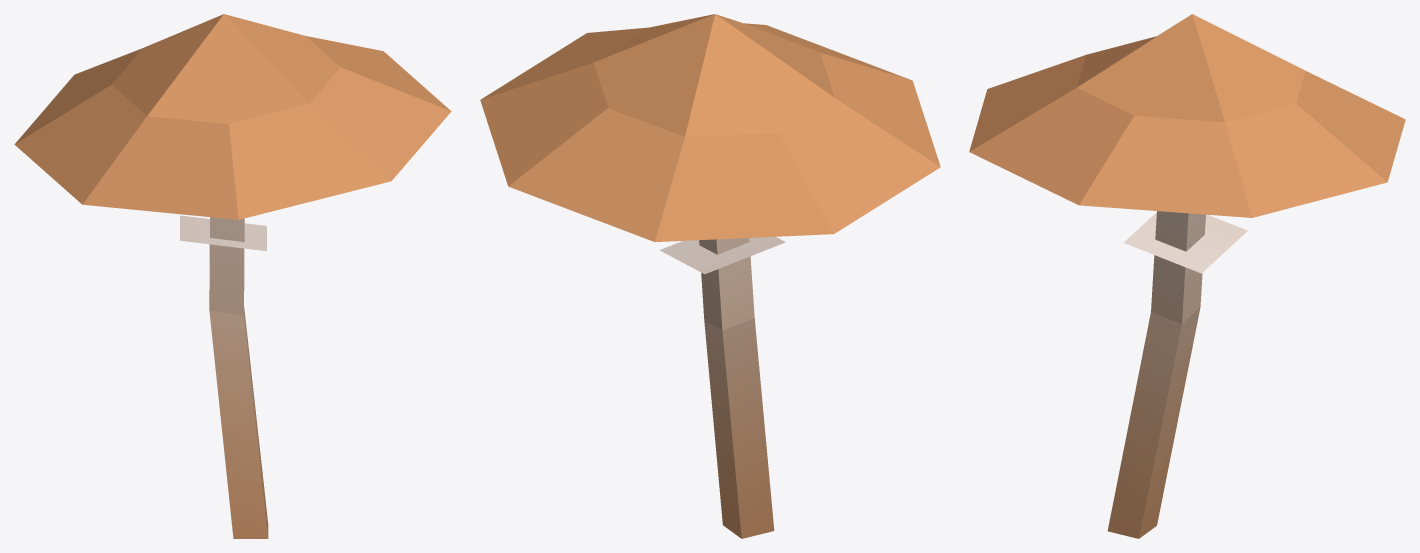
Rendered from Mushroom_i_01.fbx.
3 views of the same model, side by side, from view 1: azimuth 30°, elevation 25°; view 2: azimuth 150°, elevation 25°; view 3: azimuth 270°, elevation 25° (orthographic). The views are drawn at different scales.
Parts seen in each view (by area): view 1: Mushroom_i_01; view 2: Mushroom_i_01; view 3: Mushroom_i_01.
Part boxes in pixels (left/top/right/bottom): Mushroom_i_01: left=14, top=14, right=451, bottom=538; Mushroom_i_01: left=480, top=14, right=940, bottom=538; Mushroom_i_01: left=969, top=14, right=1405, bottom=538.
Size of the model in its own units: 24.63 by 32.11 by 24.65.
